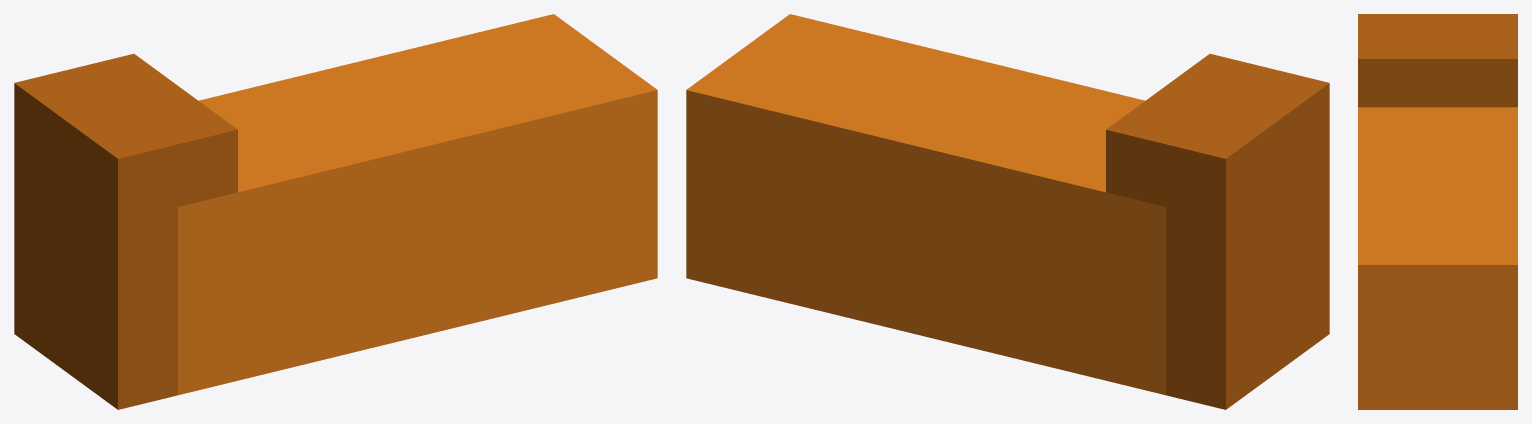
Rendered from Bronze_Shoulder_L.fbx.
The picture shows the model from 3 angles, left to right: view 1: azimuth 30°, elevation 25°; view 2: azimuth 150°, elevation 25°; view 3: azimuth 270°, elevation 25°; orthographic projection. The views are drawn at different scales.
Bounding box in the file's own units: 9 × 4 × 3.
Materials: 1 (1 with a texture image).
